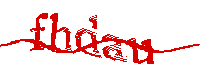a: (103, 32, 125, 62)
d: (76, 14, 100, 58)
f: (29, 12, 48, 52)
h: (51, 13, 71, 53)
u: (128, 36, 156, 66)
